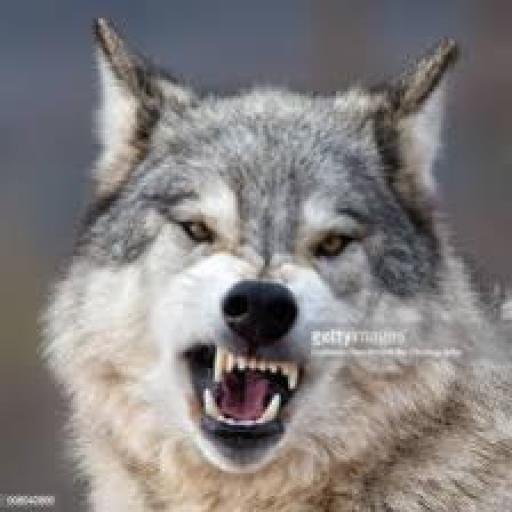wolf: (29, 11, 512, 511)
